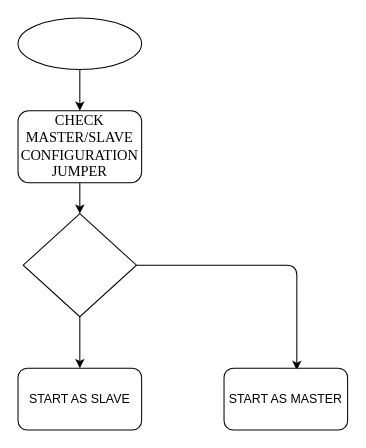
Some shapes in this 366 by 448 pixel diagram are drawn without their labels. Here are the shapes that lost their labels. From the top down, the centre of each, then its label:
At [79,43]: "START".
At [79,265]: "IF JUMPER CONFIGURED".
